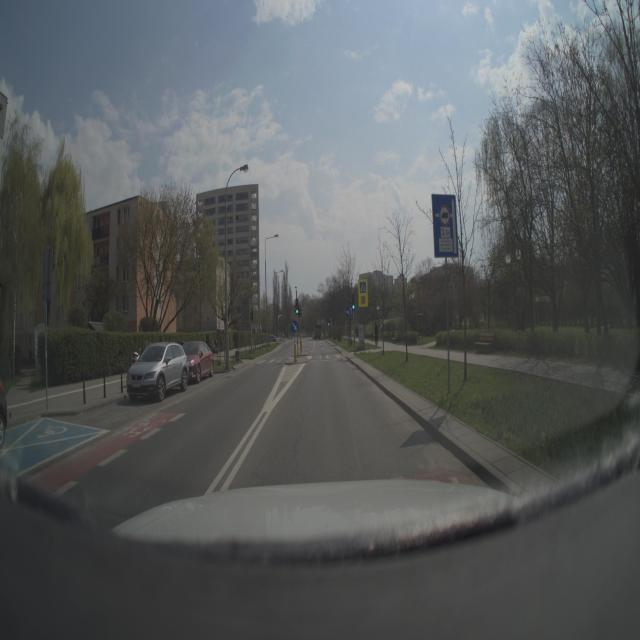green_light: (294, 299, 302, 316), (350, 299, 356, 313)
